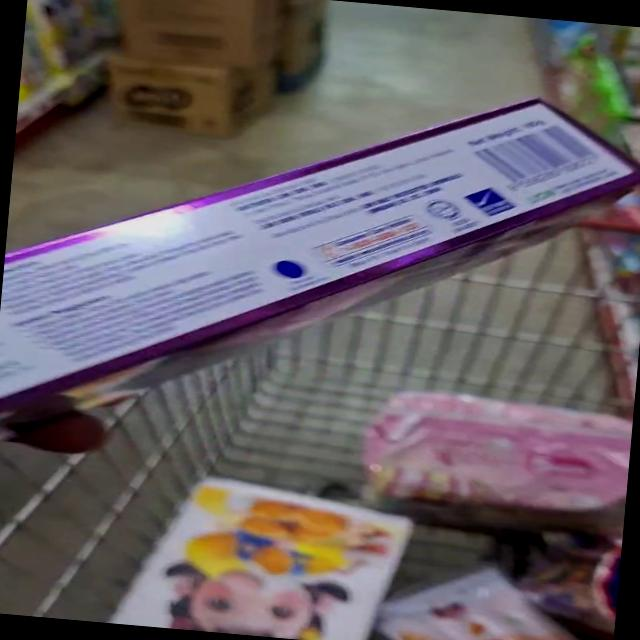Tisu: (116, 465, 421, 640)
Ubat Gigi: (0, 208, 323, 408), (163, 142, 508, 318), (328, 83, 640, 265)
